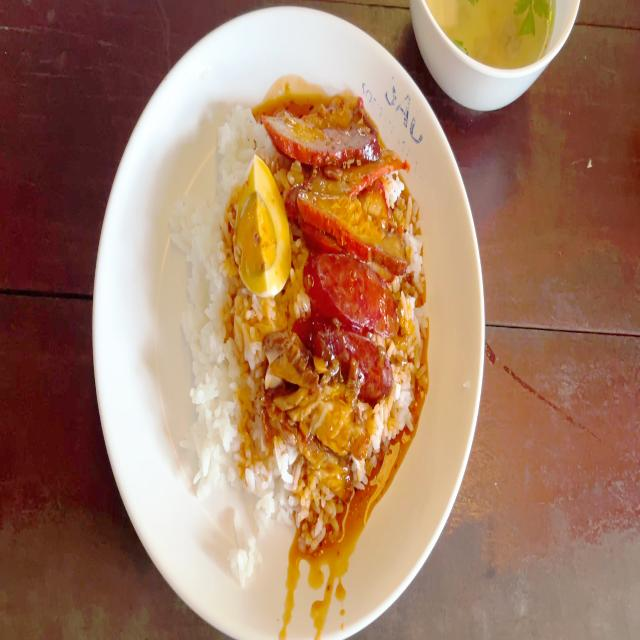boiled_egg: (238, 169, 286, 293)
chainese_sausage: (307, 262, 389, 368)
crispy_pork: (291, 395, 379, 481), (266, 327, 317, 412)
red_pork: (283, 104, 376, 198), (306, 165, 402, 255)
red_pork_and_crispy_pork: (191, 103, 422, 496)
rice: (188, 182, 233, 476), (226, 326, 273, 593)
